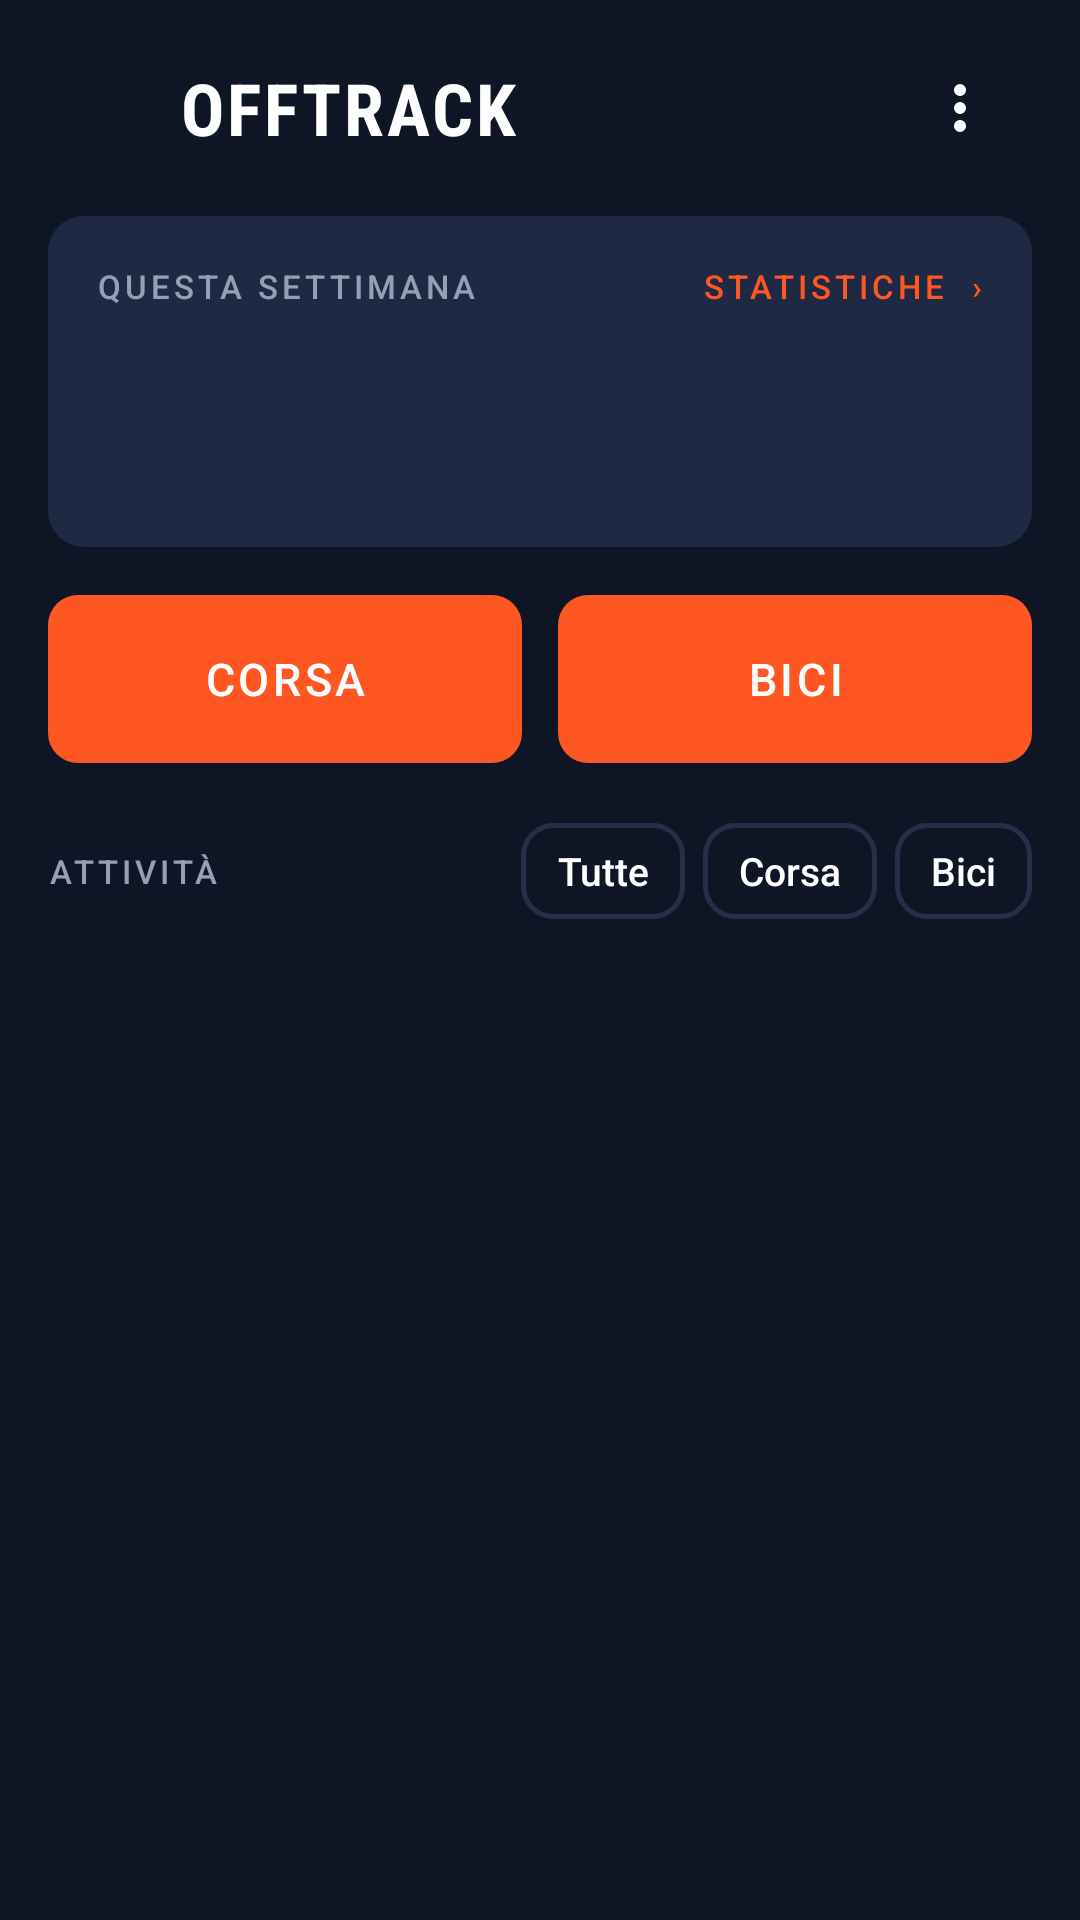

Screen size 1080 × 1920. Icon name, then its box in pixels as (x1, y1, x2, y2):
Menu: (954, 84, 966, 132)
